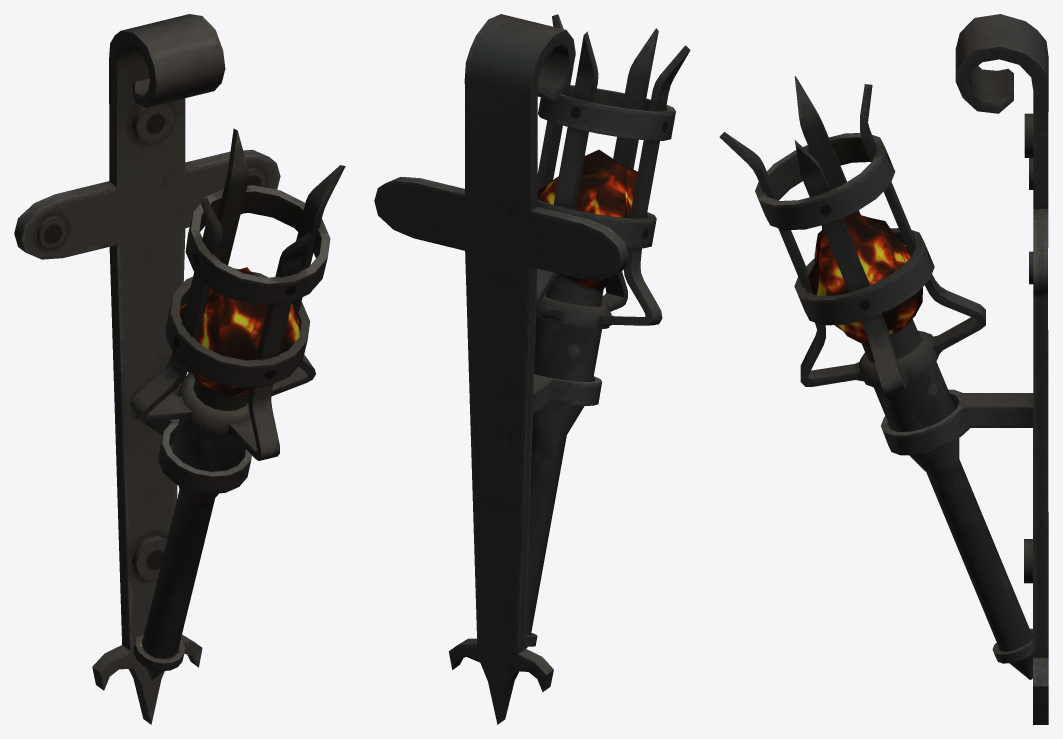
The model's file is walltorch.obj.
3 views of the same model, side by side, from view 1: azimuth 30°, elevation 25°; view 2: azimuth 150°, elevation 25°; view 3: azimuth 270°, elevation 25° (orthographic). The views are drawn at different scales.
Parts seen in each view (by area): view 1: torchholder_Mat_0, torch_2_Mat_0; view 2: torchholder_Mat_0, torch_2_Mat_0; view 3: torch_2_Mat_0, torchholder_Mat_0.
Boxes of the visible parts, <box> form: torchholder_Mat_0: <box>14,14,280,724</box>; torch_2_Mat_0: <box>130,128,345,679</box>; torchholder_Mat_0: <box>374,14,628,724</box>; torch_2_Mat_0: <box>525,14,690,648</box>; torch_2_Mat_0: <box>719,76,1032,679</box>; torchholder_Mat_0: <box>881,14,1048,724</box>.
Bounding box in the file's own units: 0.2043 × 0.5375 × 0.231.
Materials: 1 (1 with a texture image).
